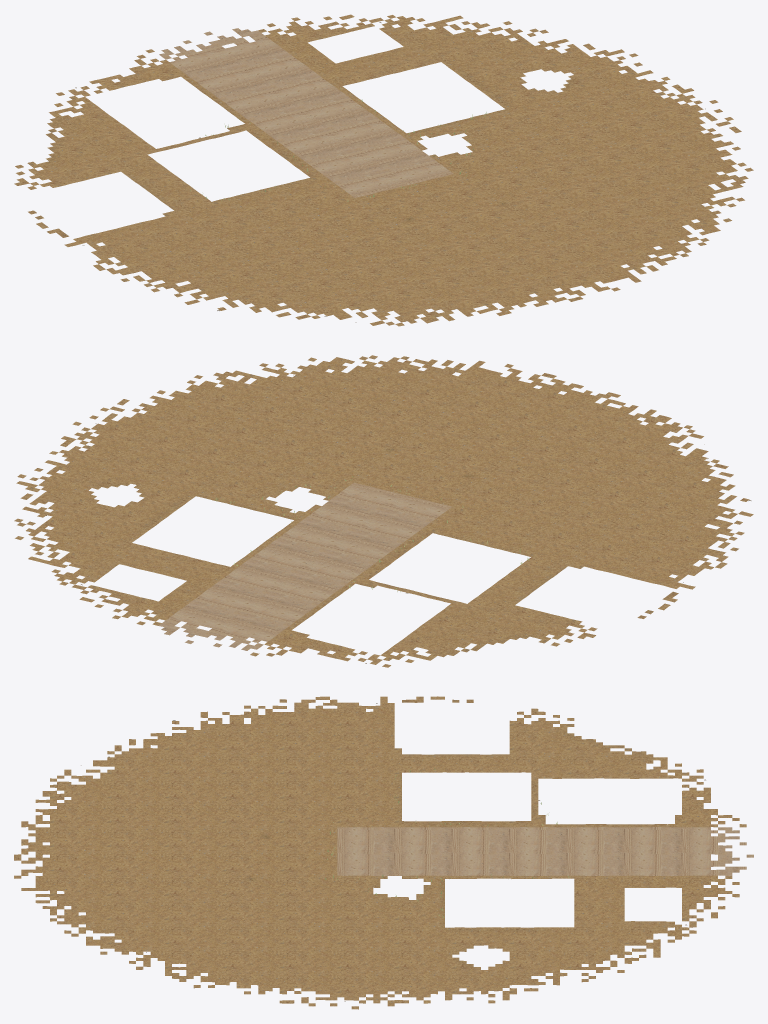
3 views of the same model, one above another, from view 1: azimuth 30°, elevation 25°; view 2: azimuth 150°, elevation 25°; view 3: azimuth 270°, elevation 25° (orthographic).
Visible parts, largest first — view 1: earth, road; view 2: earth, road; view 3: earth, road.
Part boxes in pixels (box(x1,y1,x2,y2)): earth: box(14, 14, 753, 326); road: box(159, 28, 453, 197); earth: box(14, 355, 753, 667); road: box(159, 482, 451, 650); earth: box(14, 696, 746, 1009); road: box(337, 827, 753, 875).
Size of the model in its own units: 51.5 by 0.3805 by 51.5.
Materials: 5 (3 with a texture image).
